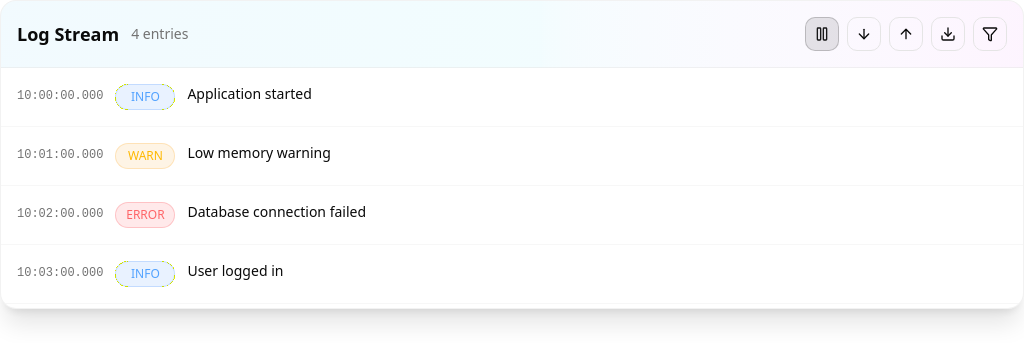
it: LogStream Component › should handle auto-scroll toggle
The width and height of the screenshot is (1024, 343).
Click the button titled "Disable auto-scroll". click: (822, 34)
box: [805,17,839,51]
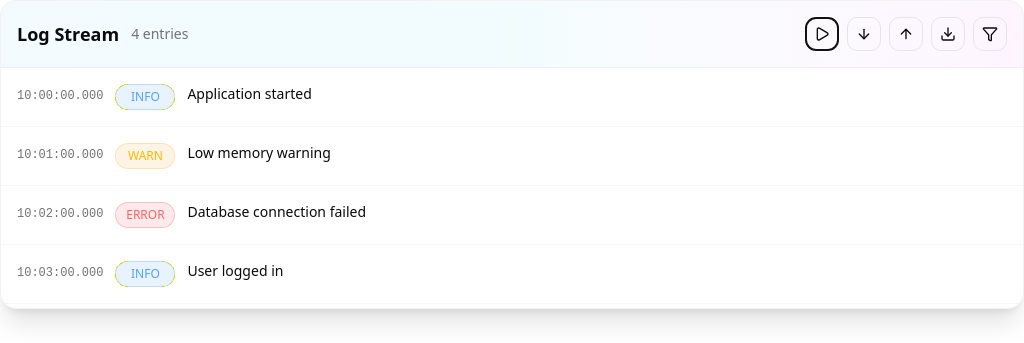
Expected: the button titled "Enable auto-scroll" is shown, [805,17,839,51]
